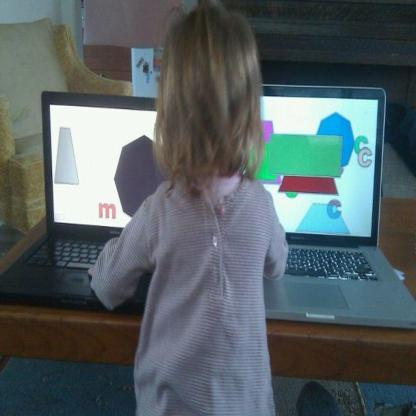board: (0, 89, 174, 315), (260, 80, 416, 330)
